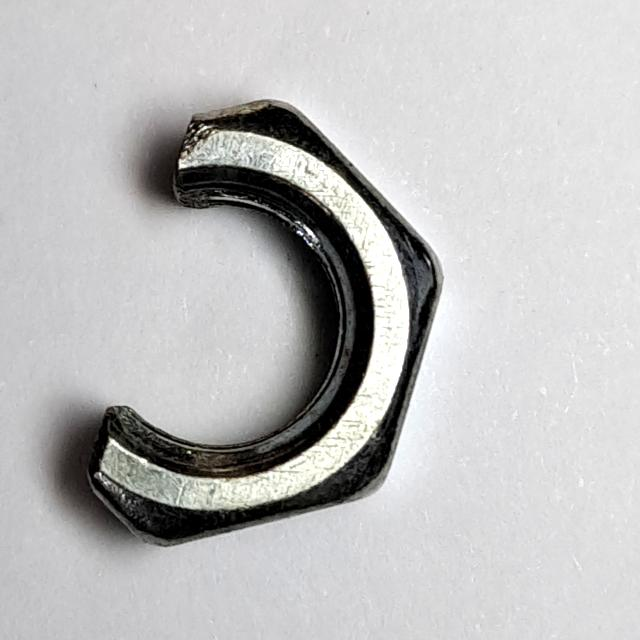Fracture: (66, 85, 460, 559)
